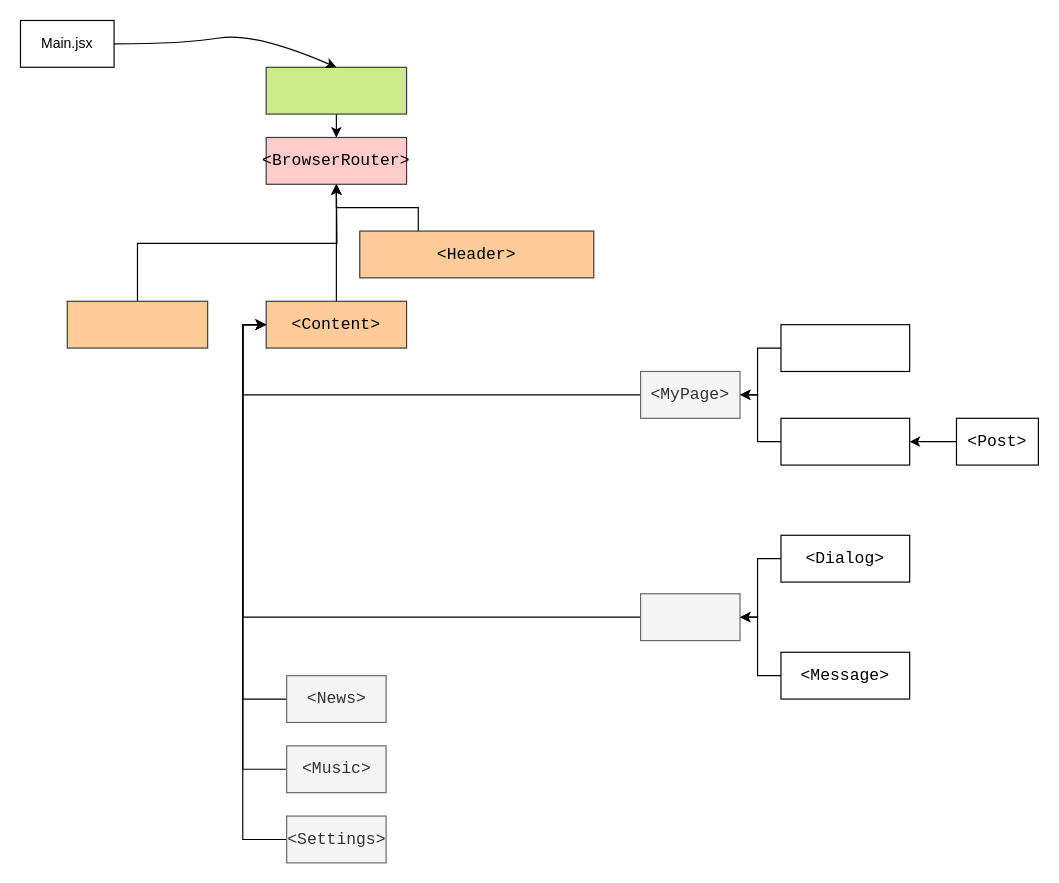
Image size: 1059x883. Some labels were removed from this diagram. Here are the shapes that lost their labels. From the top down, the box of each, then its label:
(265, 66, 407, 114): App
(66, 300, 208, 348): <Nav>
(780, 324, 910, 371): <ProfileInfo>
(780, 417, 910, 465): <MyPosts>
(639, 593, 740, 641): <Messages>
